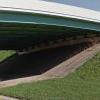Bridge: (4, 1, 96, 53)
